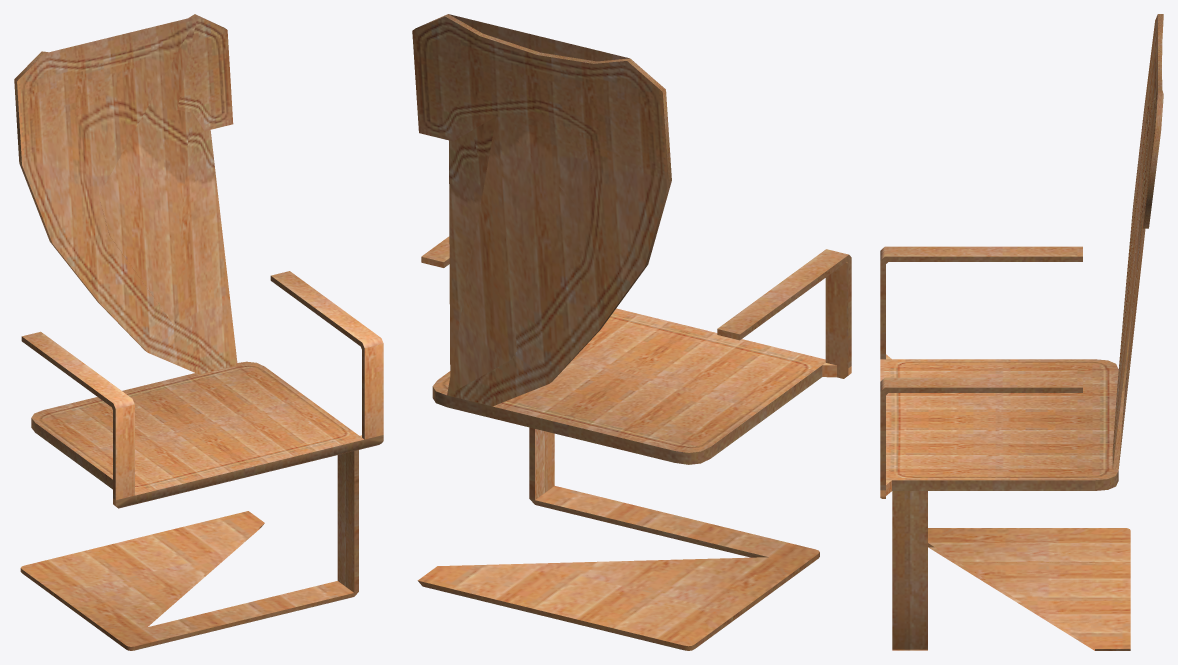
The model's file is frn_all_chair_wooden_s2_l0.fbx.
3 views of the same model, side by side, from view 1: azimuth 30°, elevation 25°; view 2: azimuth 150°, elevation 25°; view 3: azimuth 270°, elevation 25° (orthographic). The views are drawn at different scales.
Parts seen in each view (by area): view 1: mesh_node; view 2: mesh_node; view 3: mesh_node.
Boxes of the visible parts, x1,y1,x2,y2 form: mesh_node: (14, 14, 383, 650); mesh_node: (412, 14, 851, 650); mesh_node: (880, 14, 1163, 650).
Size of the model in its own units: 0.7 by 1.25 by 0.5946.
